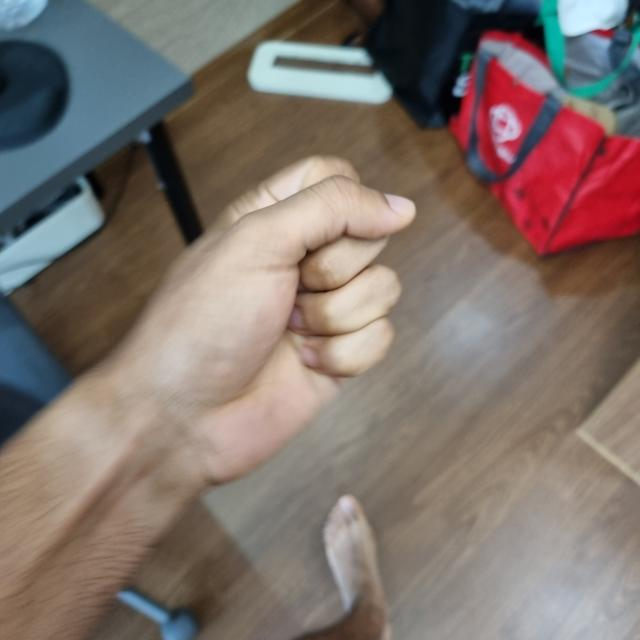Rock: (127, 179, 406, 479)
